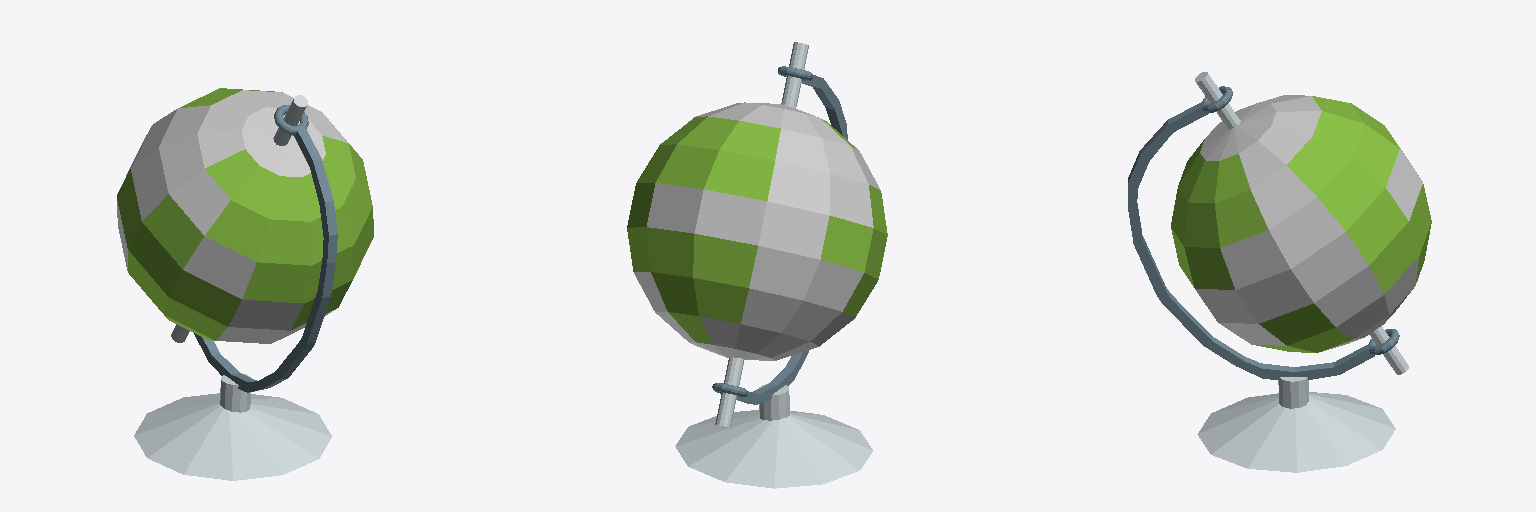
The picture shows the model from 3 angles: view 1: azimuth 30°, elevation 25°; view 2: azimuth 150°, elevation 25°; view 3: azimuth 270°, elevation 25°; orthographic projection.
Visible parts, largest first — view 1: group[number redacted], group[number redacted], group[number redacted], group[number redacted], group[number redacted], group[number redacted]; view 2: group[number redacted], group[number redacted], group[number redacted], group[number redacted], group[number redacted], group[number redacted]; view 3: group[number redacted], group[number redacted], group[number redacted], group[number redacted], group[number redacted], group[number redacted].
Boxes of the visible parts, box(x1,y1,x2,y2) form: group[number redacted]: box(117, 88, 373, 343); group[number redacted]: box(134, 393, 331, 480); group[number redacted]: box(293, 126, 337, 343); group[number redacted]: box(194, 333, 315, 392); group[number redacted]: box(171, 95, 307, 342); group[number redacted]: box(220, 373, 250, 412); group[number redacted]: box(627, 102, 887, 360); group[number redacted]: box(675, 410, 872, 488); group[number redacted]: box(715, 42, 808, 427); group[number redacted]: box(736, 350, 808, 404); group[number redacted]: box(802, 75, 847, 139); group[number redacted]: box(759, 383, 789, 420); group[number redacted]: box(1171, 95, 1431, 352); group[number redacted]: box(1198, 392, 1395, 472); group[number redacted]: box(1157, 287, 1374, 379); group[number redacted]: box(1128, 101, 1208, 295); group[number redacted]: box(1195, 72, 1408, 374); group[number redacted]: box(1278, 377, 1308, 408).
Bounding box in the file's own units: 0.4968 × 0.7842 × 0.5812.